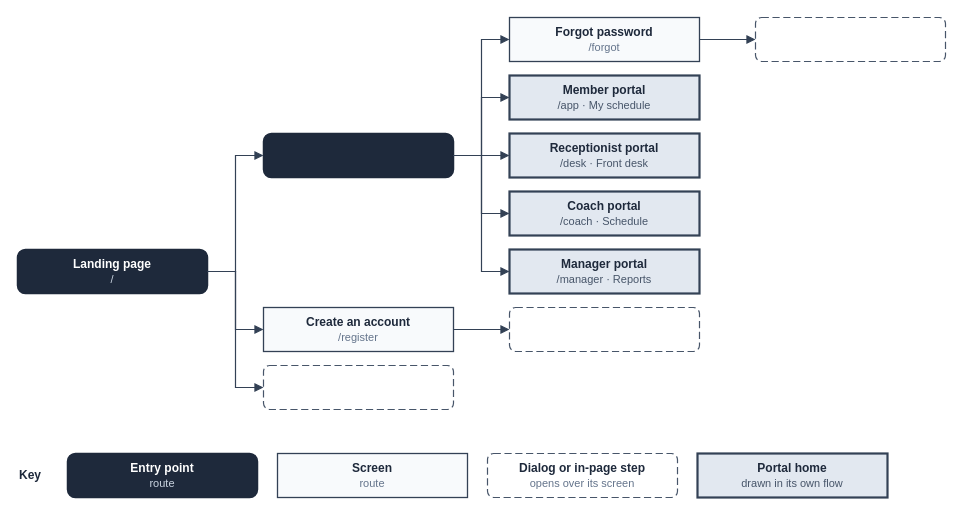
Some shapes in this 964 by 516 pixel diagram are drawn without their labels. The shapes that lost their labels are listed below. From the top down, each one's box as (x1, y1, x2, y2) in pixels, then its label:
(754, 16, 946, 62): Verify reset code in-page step
(262, 132, 454, 178): Sign in /login
(508, 306, 700, 352): Verify the emailed code in-page step
(262, 364, 454, 410): Coach profile dialog
